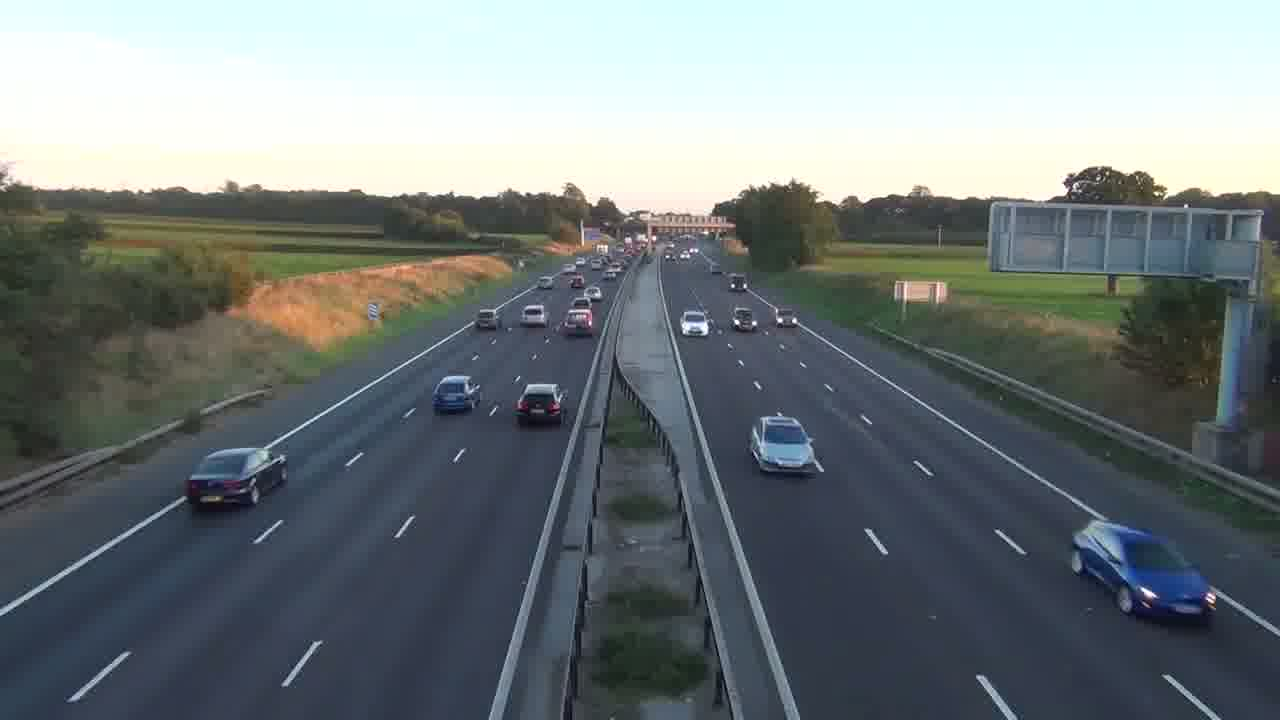car: (1071, 519, 1218, 628), (185, 446, 288, 510), (747, 413, 822, 476), (514, 382, 567, 426), (432, 374, 482, 414), (731, 305, 757, 333), (521, 303, 547, 327), (477, 308, 498, 330)
truck: (185, 446, 288, 510)
